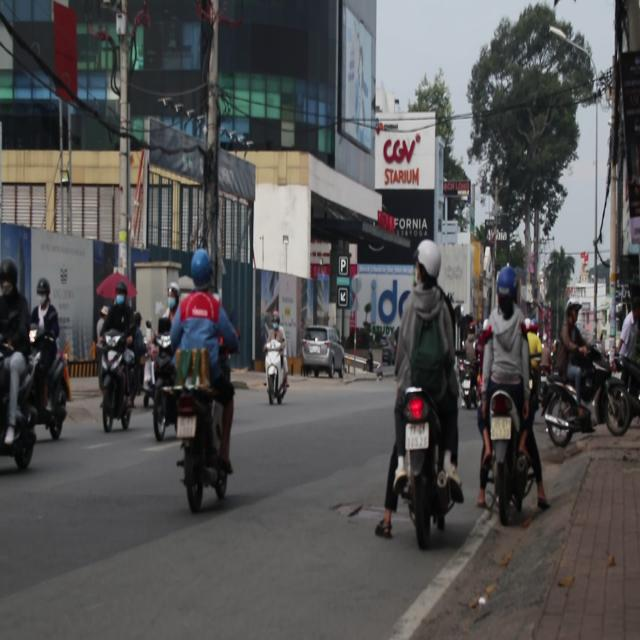car: (300, 324, 345, 378)
motorbike: (394, 377, 460, 551), (480, 386, 548, 530), (173, 377, 239, 518), (548, 348, 620, 456), (1, 328, 53, 470), (151, 366, 179, 442), (264, 334, 290, 407)
